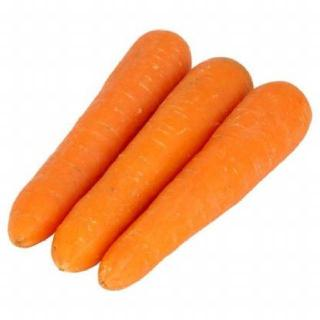carrot: (96, 80, 310, 293), (50, 54, 254, 276), (5, 28, 191, 250)
